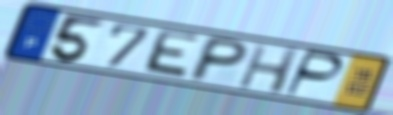5: (47, 12, 109, 63)
7: (105, 23, 154, 69)
E: (138, 28, 203, 81)
H: (236, 43, 303, 97)
P: (183, 35, 252, 83), (282, 49, 346, 99)
